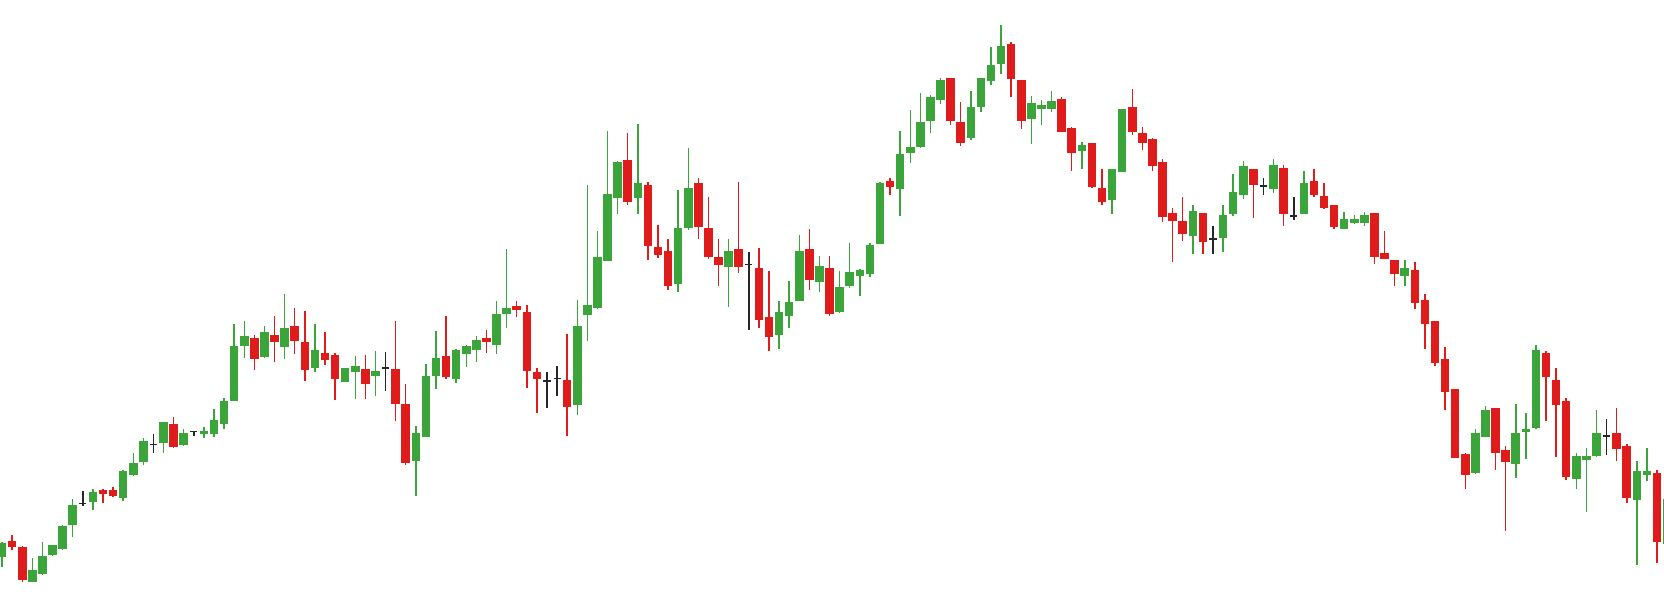buy: (169, 383, 421, 510)
sell: (924, 24, 1017, 113)
